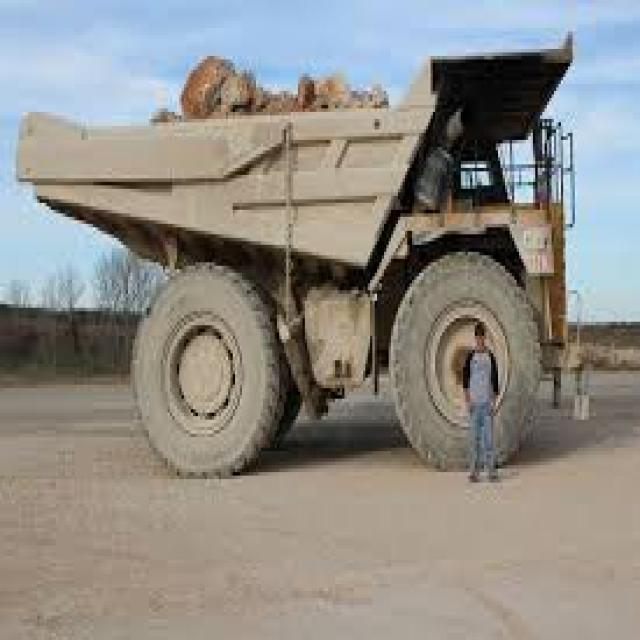dump_truck: (11, 24, 595, 494)
